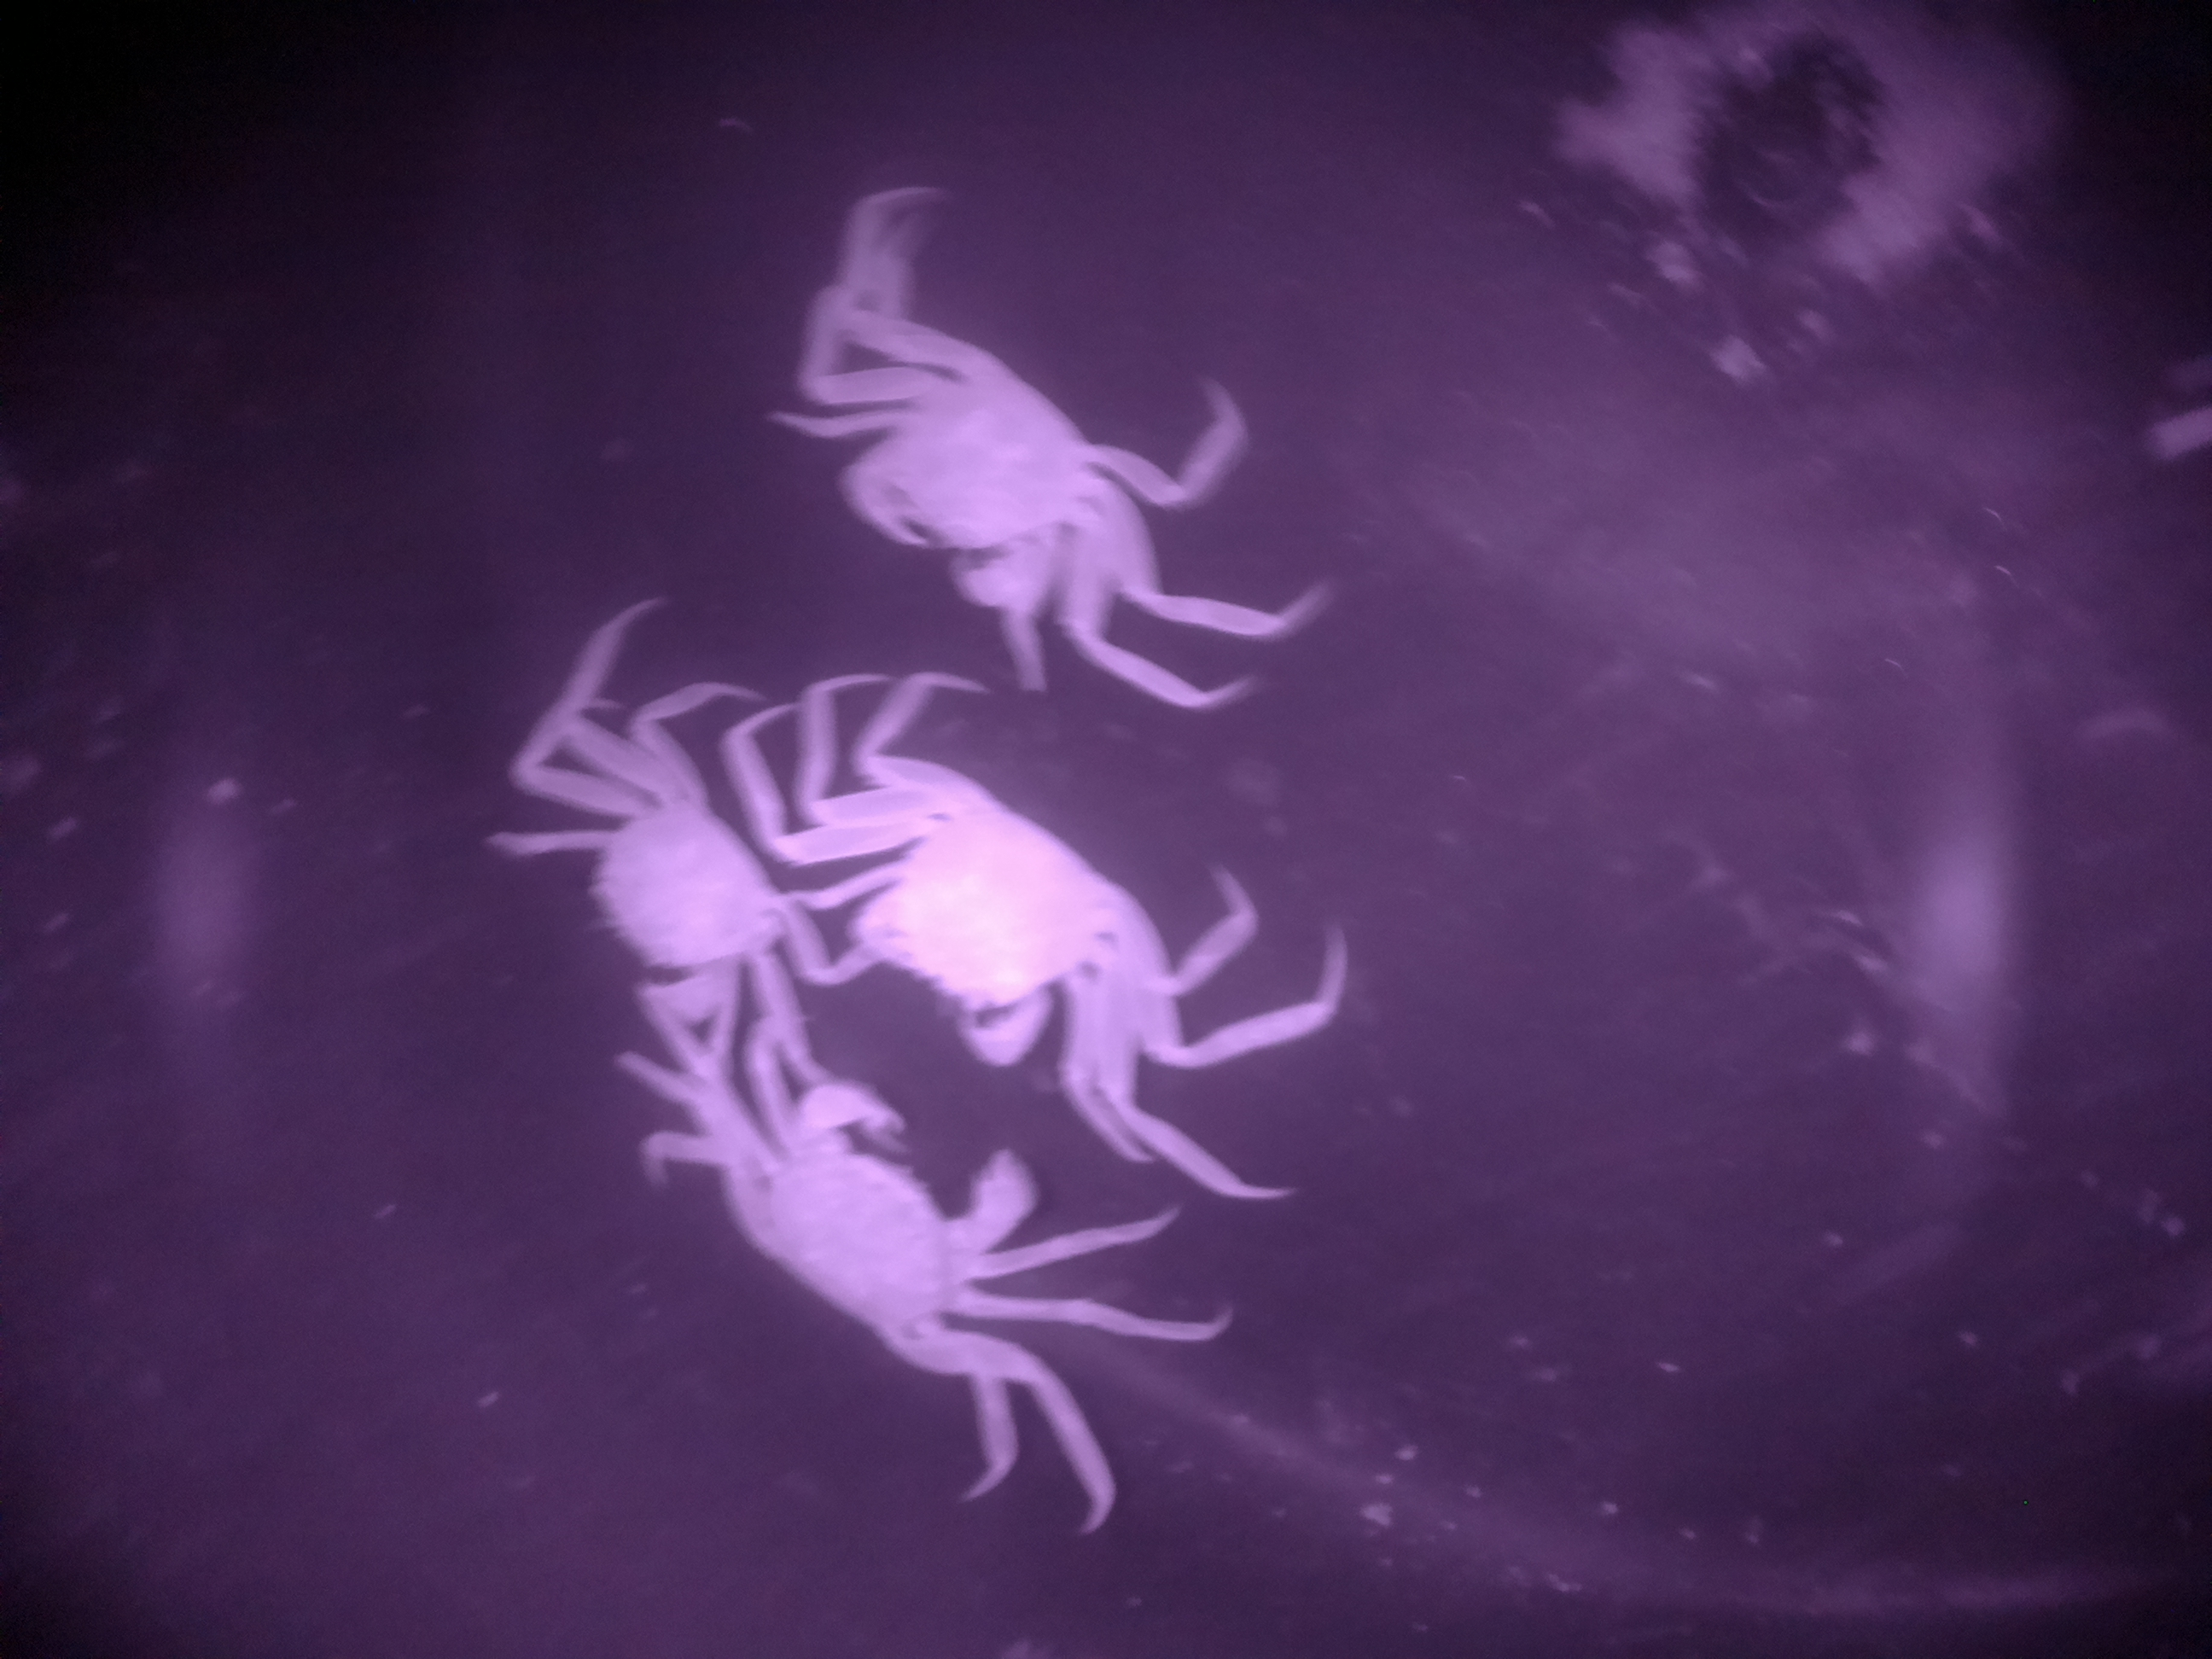Crab: (604, 999, 1068, 1452), (826, 197, 1122, 688)
